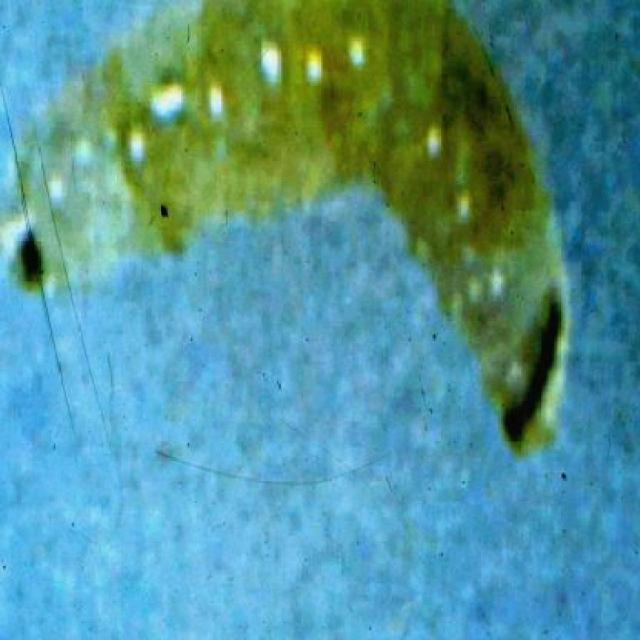whorl-maggot: (0, 2, 572, 472)
